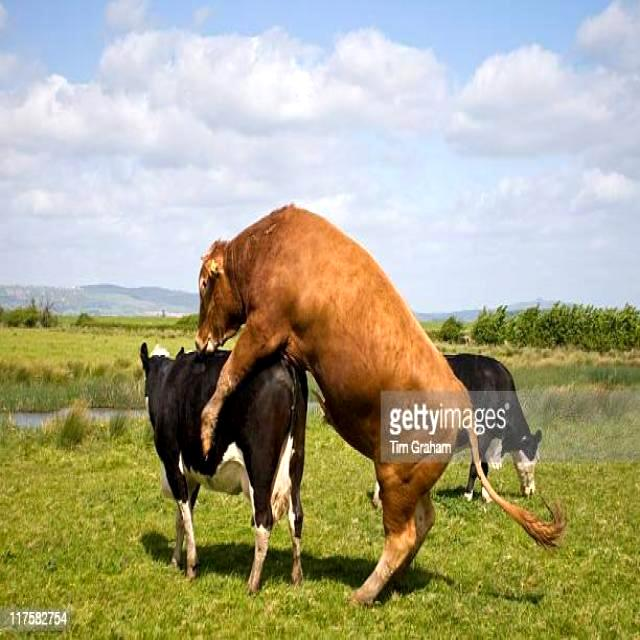COW: (198, 205, 464, 603), (140, 344, 308, 592)
